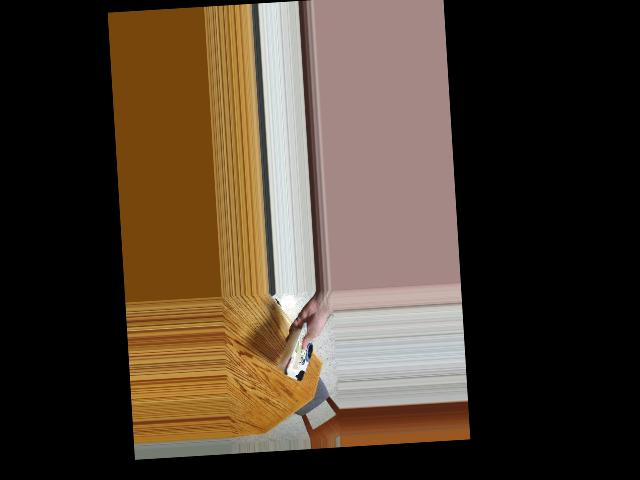cheese: (276, 330, 324, 379)
